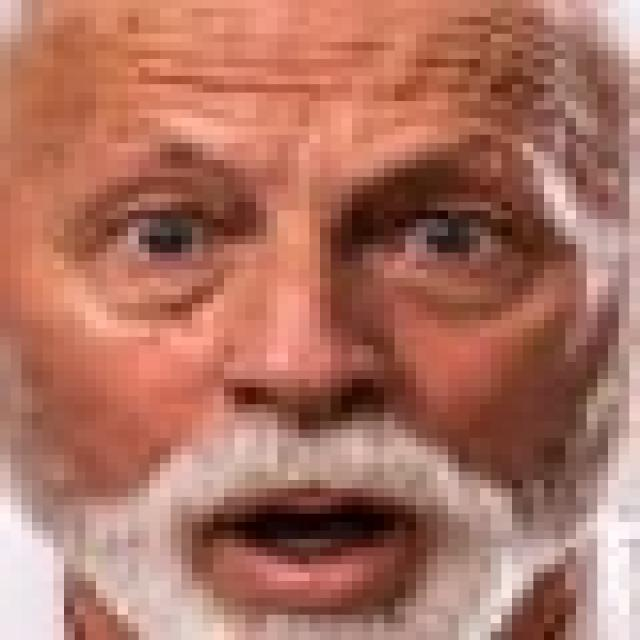Anxiety: (11, 2, 640, 632)
